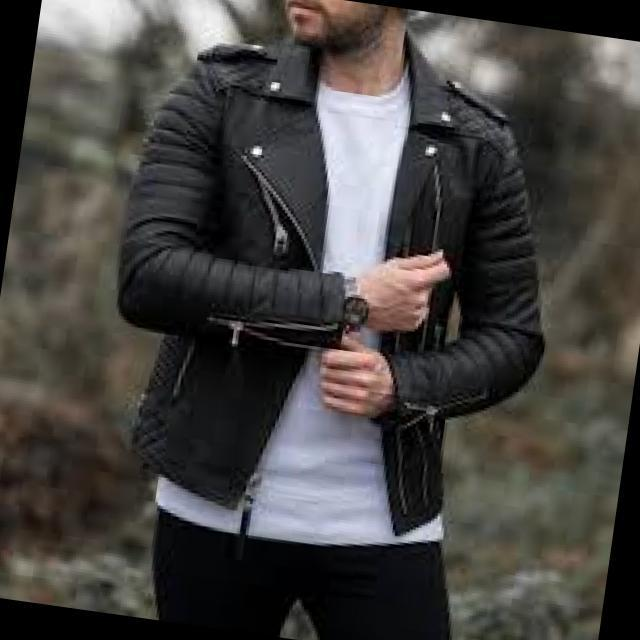jacket: (114, 35, 549, 534)
short sleeve shirt: (154, 71, 448, 547)
